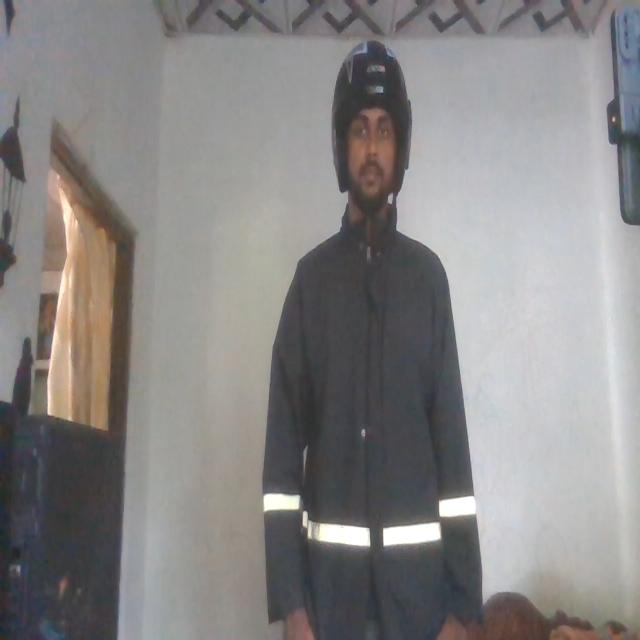Helmet_Wearer: (326, 33, 414, 229)
Jacket_Wearer: (256, 230, 483, 640)
Person: (257, 26, 492, 640)
